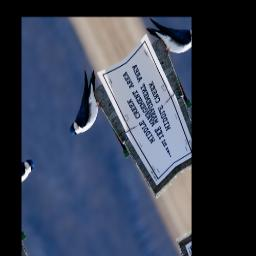Swallow: (52, 66, 113, 143)
